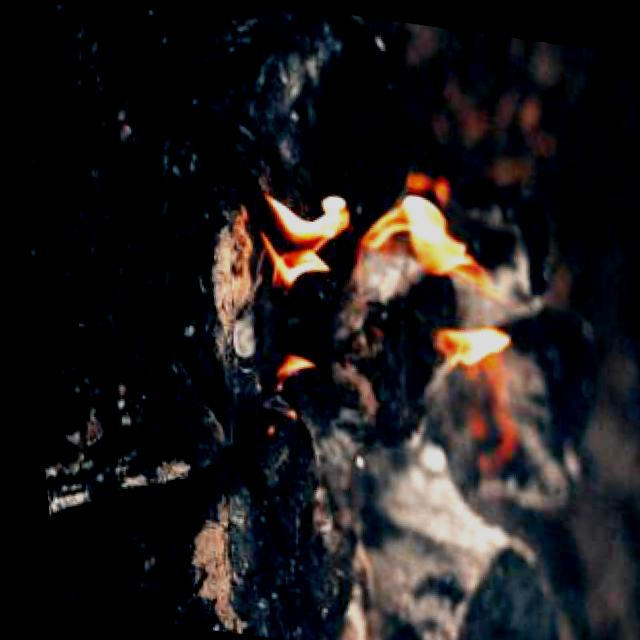Smoke: (216, 149, 533, 438)
